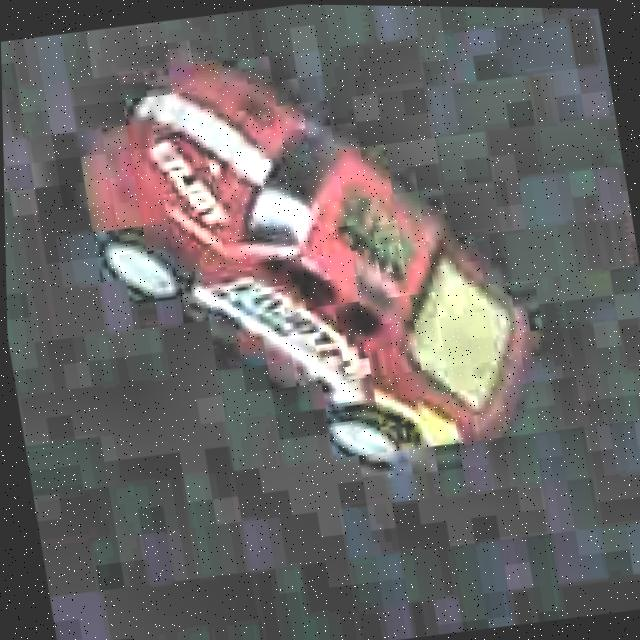car: (52, 12, 559, 508)
